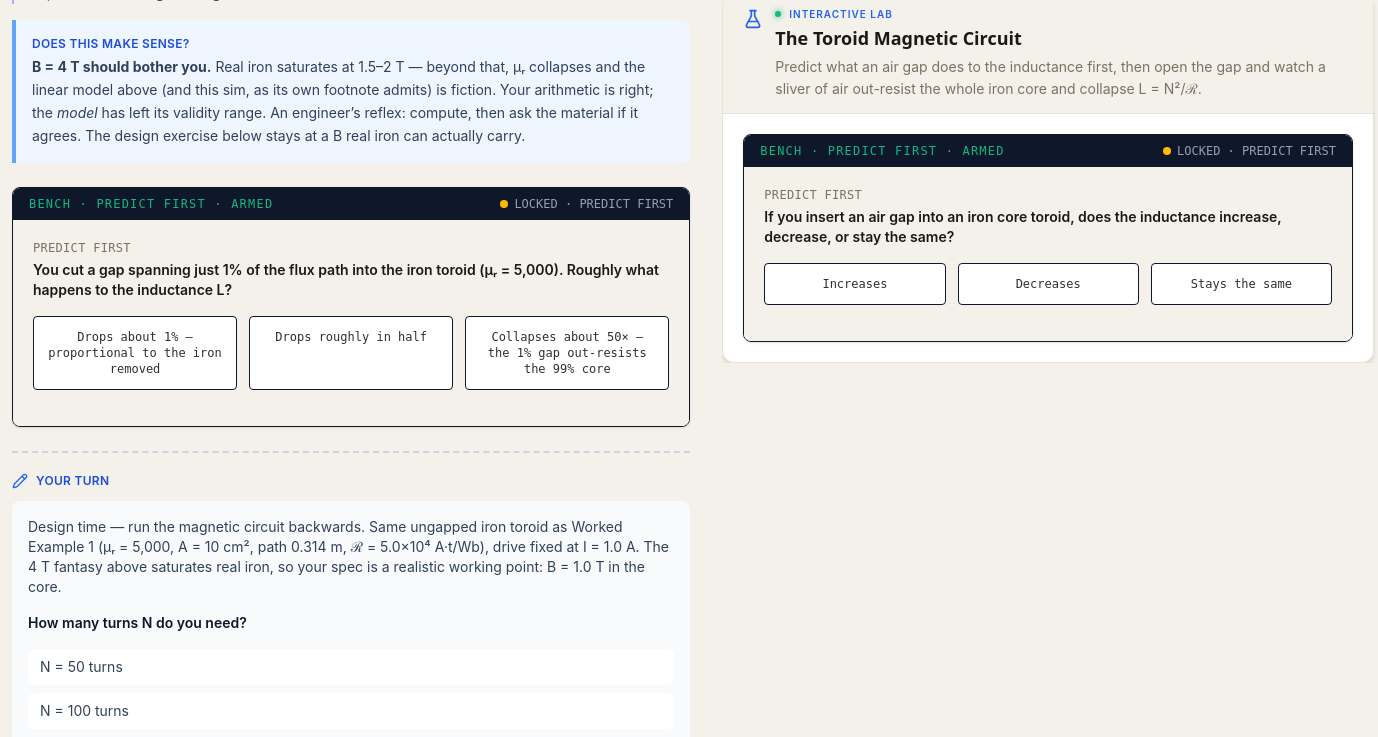
Scenario: MagneticCircuits page — solve it by hand (unit 2F) › reveals Worked Example 2 after a correct prediction and marks the gate in the store
(page scrolled)
Click the button "Collapses about 50× — the 1% gap out-resists the 99% core" at (567, 353), box [465,316,669,390]
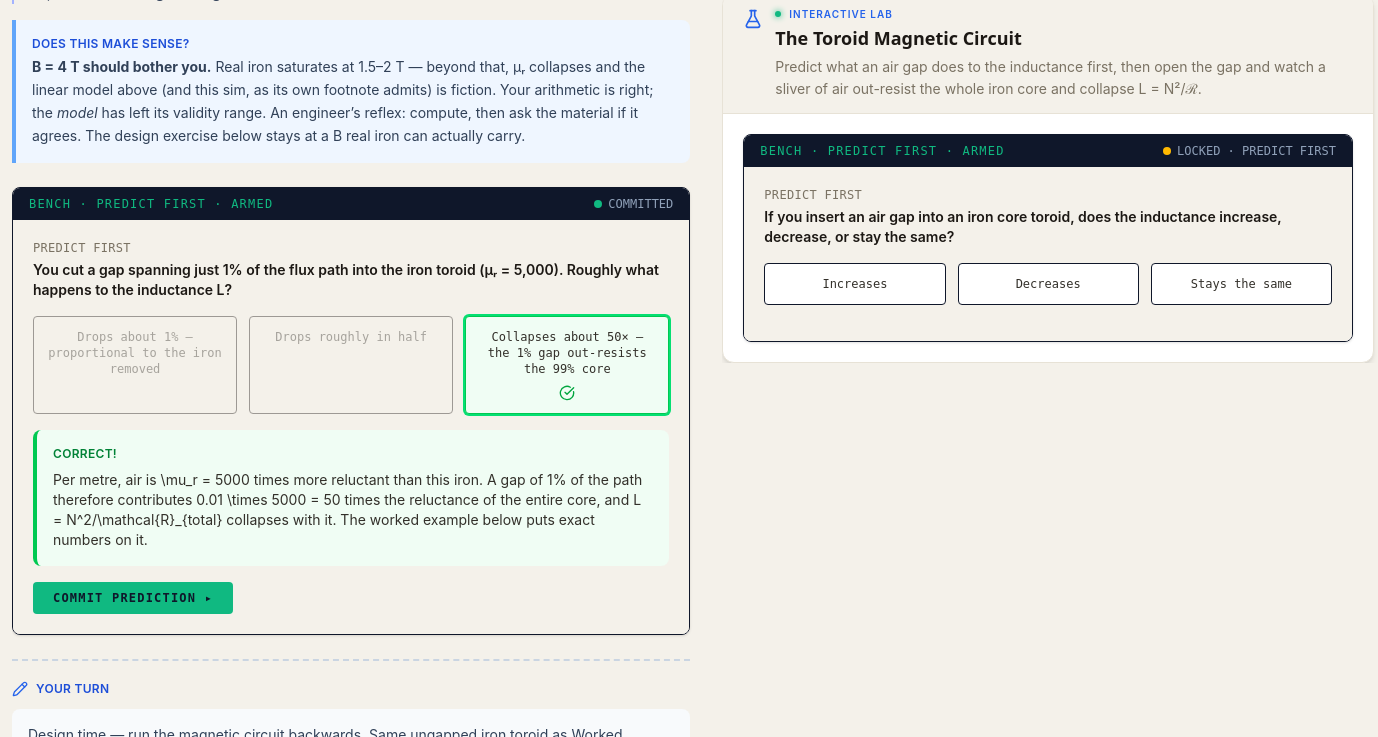
Click the button "COMMIT PREDICTION ▸" at (133, 598), box [33,582,233,614]
(page scrolled)
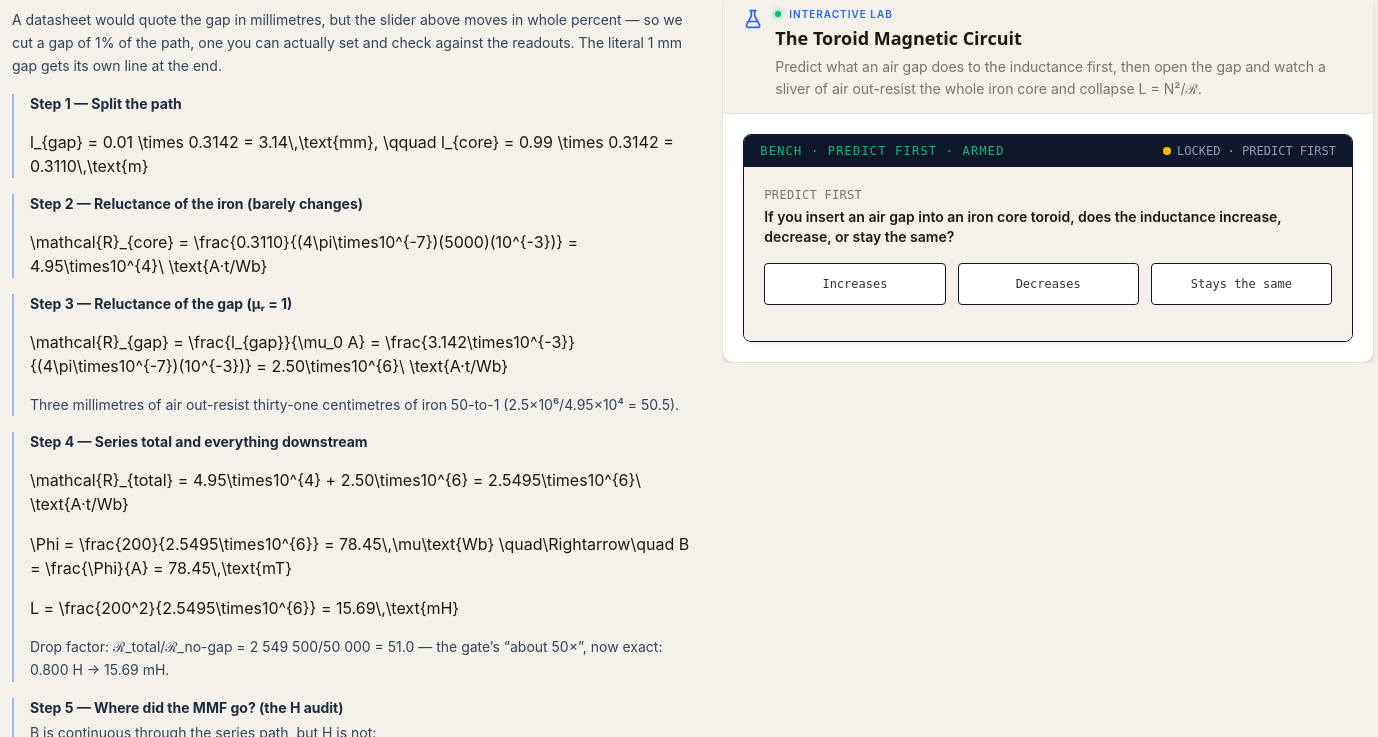
Expected: the text "Step 3 — Reluctance of the gap (μᵣ = 1)" is shown, [30,294,292,312]
Expected: the text "Step 5 — Where did the MMF go? (the H audit)" is shown, [30,699,344,716]
